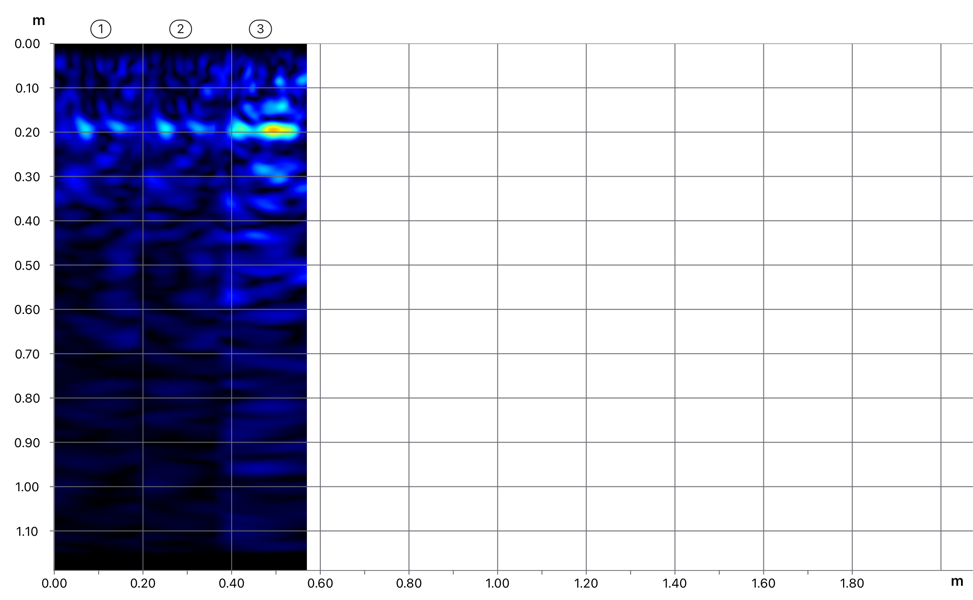crop: (2, 4, 308, 290)
